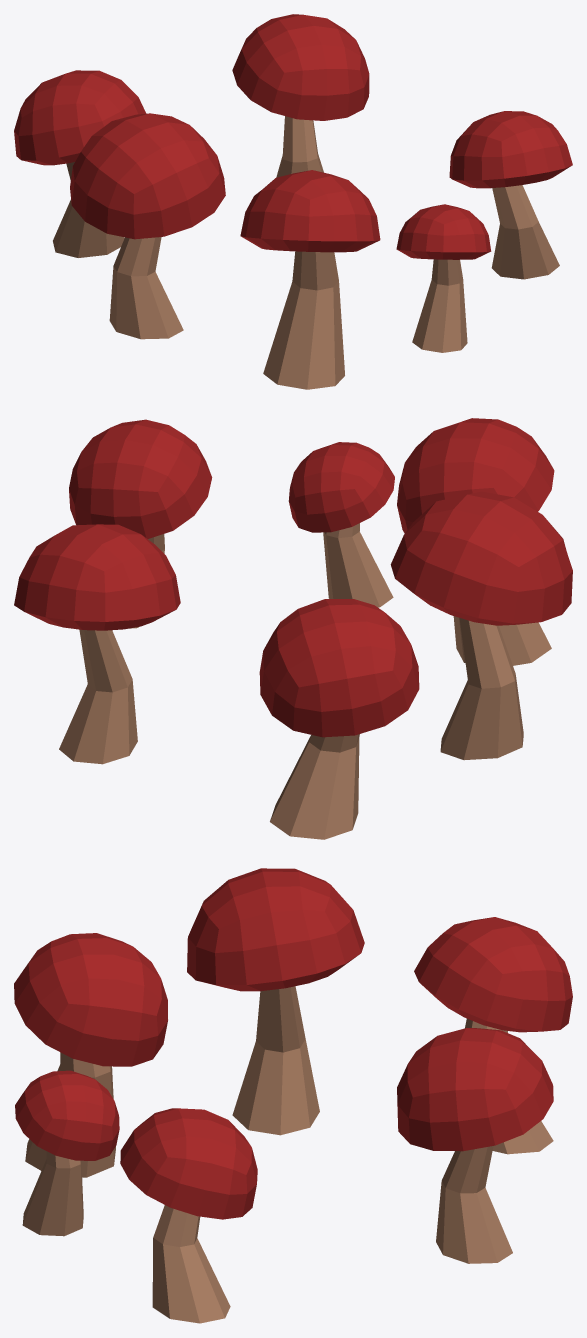
Rendered from mesh_mushrooms_02_red.fbx.
3 views of the same model, one above another, from view 1: azimuth 30°, elevation 25°; view 2: azimuth 150°, elevation 25°; view 3: azimuth 270°, elevation 25° (orthographic). The views are drawn at different scales.
Parts seen in each view (by area): view 1: mesh_mushrooms_02_red_LOD0; view 2: mesh_mushrooms_02_red_LOD0; view 3: mesh_mushrooms_02_red_LOD0.
Boxes of the visible parts, x1,y1,x2,y2 form: mesh_mushrooms_02_red_LOD0: (14, 14, 572, 389); mesh_mushrooms_02_red_LOD0: (14, 418, 572, 839); mesh_mushrooms_02_red_LOD0: (14, 868, 572, 1323).
Size of what is drawn, in the model's own units: 0.9909 by 0.4431 by 0.928.
